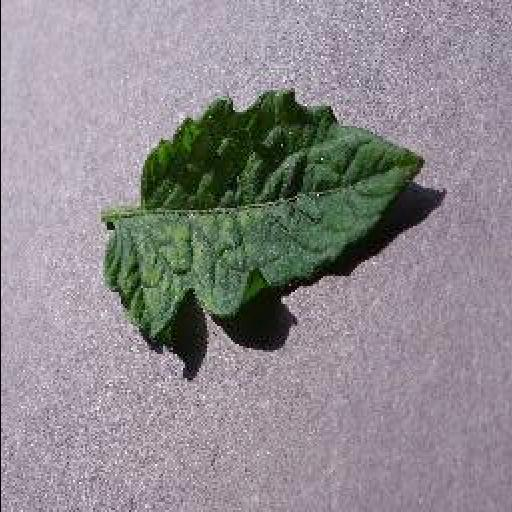Mosaic Virus: (98, 86, 426, 344)
